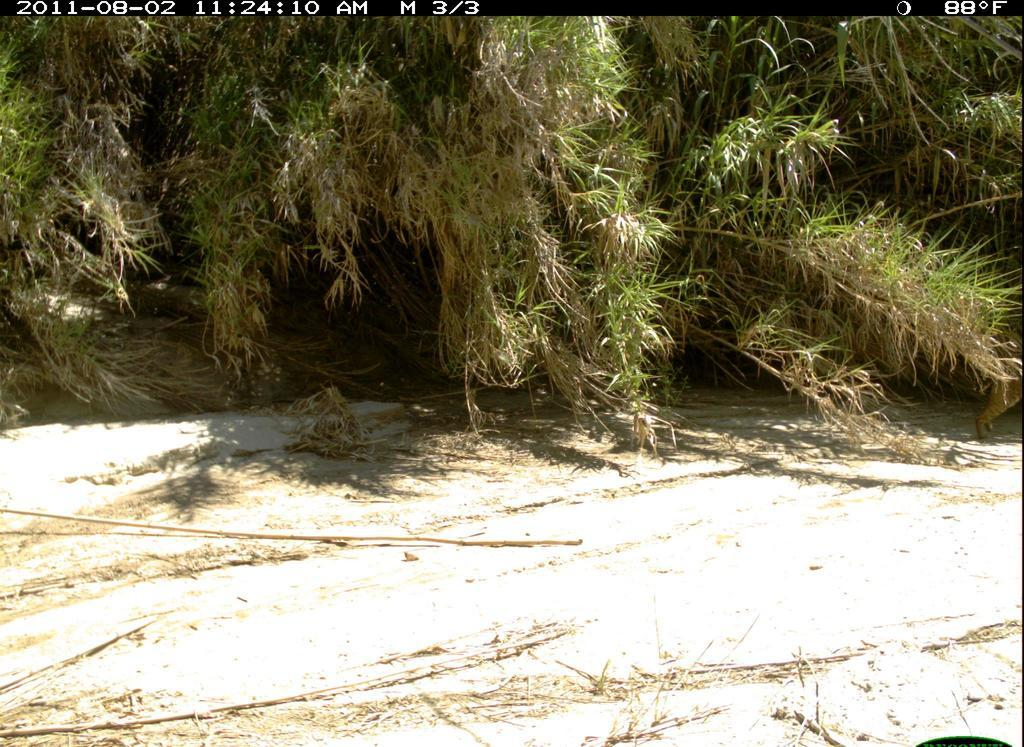bobcat: (966, 341, 1023, 454)
